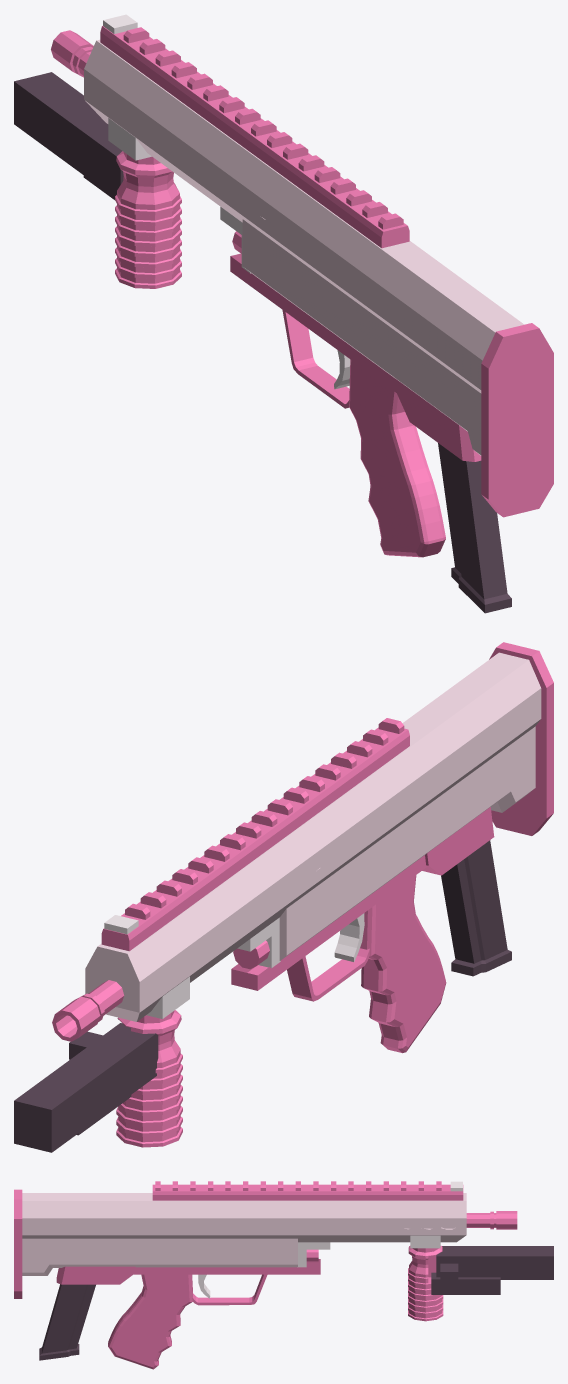
The model's file is Bullpup_2.obj.
3 renders of one model, top to bottom at view 1: azimuth 30°, elevation 25°; view 2: azimuth 150°, elevation 25°; view 3: azimuth 270°, elevation 25°, orthographic. The views are drawn at different scales.
Parts seen in each view (by area): view 1: Grip, Panel, Bolt, Mag, Body; view 2: Panel, Grip, Bolt, Mag, Body; view 3: Panel, Grip, Bolt, Mag, Hardware, Body.
Boxes of the visible parts, <box> form: Grip: <box>51,26,553,557</box>; Panel: <box>84,39,523,455</box>; Bolt: <box>14,72,123,197</box>; Mag: <box>438,443,511,613</box>; Body: <box>103,14,350,389</box>; Panel: <box>85,652,541,1021</box>; Grip: <box>52,642,553,1147</box>; Bolt: <box>14,1023,158,1152</box>; Mag: <box>441,840,511,976</box>; Body: <box>104,913,364,1018</box>; Panel: <box>22,1193,466,1275</box>; Grip: <box>14,1181,517,1369</box>; Bolt: <box>436,1246,553,1281</box>; Mag: <box>39,1284,95,1360</box>; Hardware: <box>431,1272,500,1294</box>; Body: <box>198,1181,462,1298</box>.
Bounding box in the file's own units: 0.5308 × 2.02 × 5.36.
